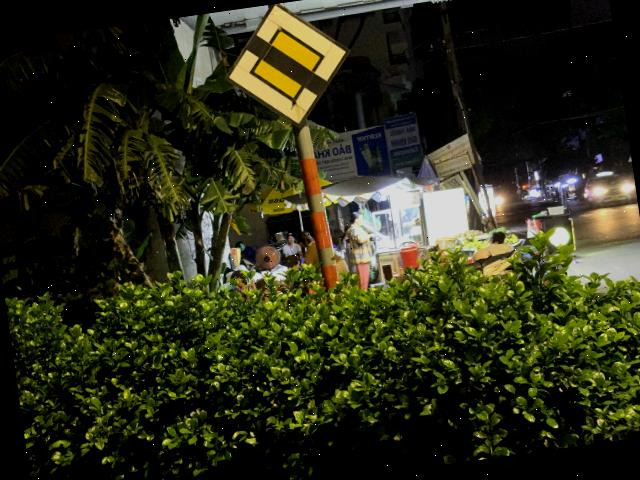het-duong-uu-tien: (214, 0, 361, 138)
